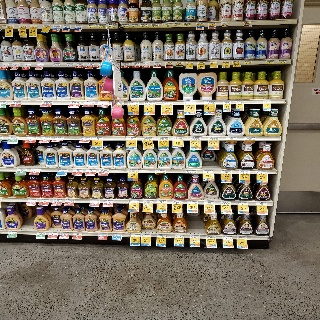All PRICE TAGS: (127, 101, 139, 105), (184, 101, 196, 105), (161, 101, 173, 105), (98, 101, 109, 105), (144, 101, 155, 105), (239, 170, 250, 174), (41, 136, 51, 140), (27, 136, 37, 140), (84, 101, 94, 105), (70, 101, 80, 105), (42, 101, 52, 105), (12, 101, 22, 105), (128, 169, 138, 173), (156, 169, 166, 173), (187, 169, 197, 173), (257, 170, 267, 174), (129, 199, 139, 203), (173, 200, 183, 204), (204, 200, 214, 204), (238, 201, 248, 205), (130, 233, 140, 237), (141, 233, 151, 237), (190, 234, 200, 238), (206, 235, 216, 239), (223, 235, 233, 239), (237, 235, 247, 239), (27, 198, 37, 202), (129, 23, 139, 27), (139, 23, 149, 27), (31, 168, 40, 172), (243, 60, 252, 64), (114, 101, 123, 105), (244, 137, 256, 140), (104, 199, 113, 203), (188, 200, 197, 204), (175, 234, 184, 238), (73, 232, 82, 236), (37, 231, 46, 235), (90, 199, 99, 203), (66, 199, 75, 203), (196, 22, 205, 26), (221, 22, 230, 26), (176, 62, 183, 67), (204, 101, 215, 104), (126, 137, 137, 140), (172, 137, 183, 140), (190, 137, 201, 140), (208, 137, 219, 140), (226, 137, 237, 140), (221, 170, 232, 173), (143, 200, 154, 203), (256, 202, 267, 205), (57, 169, 68, 172), (161, 23, 172, 26), (151, 23, 159, 27), (42, 25, 50, 29), (209, 61, 217, 65), (223, 100, 231, 104), (236, 100, 244, 104), (209, 22, 217, 26), (243, 21, 251, 25), (17, 168, 27, 171), (81, 137, 91, 140), (54, 137, 64, 140), (8, 136, 18, 139), (143, 137, 153, 140), (159, 137, 169, 140), (203, 170, 213, 173), (157, 200, 167, 203), (221, 201, 231, 204), (99, 169, 109, 172), (86, 169, 96, 172), (73, 169, 83, 172), (108, 24, 115, 28), (67, 63, 74, 67), (53, 63, 60, 67), (37, 63, 44, 67), (23, 63, 30, 67), (6, 25, 13, 29), (20, 25, 27, 29), (30, 25, 37, 29), (98, 24, 105, 28), (53, 25, 60, 29), (93, 137, 102, 140), (99, 233, 108, 236), (185, 62, 194, 65), (278, 60, 287, 63), (113, 233, 122, 236), (157, 234, 166, 237), (60, 232, 69, 235), (49, 232, 58, 235), (8, 231, 17, 234), (53, 199, 62, 202), (13, 63, 19, 67), (2, 63, 8, 67), (120, 24, 128, 27), (142, 62, 150, 65), (153, 62, 161, 65), (197, 61, 205, 64), (221, 61, 229, 64), (232, 61, 240, 64), (266, 60, 274, 63), (263, 100, 271, 103), (184, 23, 192, 26), (41, 199, 49, 202), (122, 62, 130, 65), (87, 63, 94, 66), (88, 25, 95, 28), (75, 25, 82, 28), (63, 25, 70, 28), (132, 62, 139, 65), (166, 62, 173, 65), (174, 23, 181, 26), (1, 101, 7, 104), (77, 63, 83, 66), (98, 63, 100, 66)
